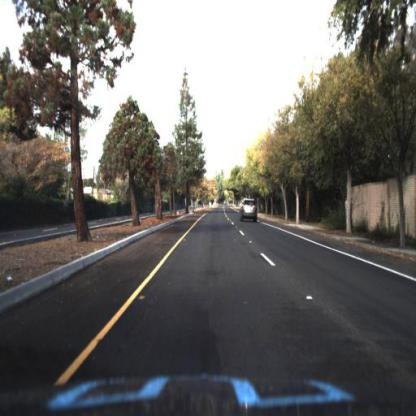car: (240, 197, 260, 224)
